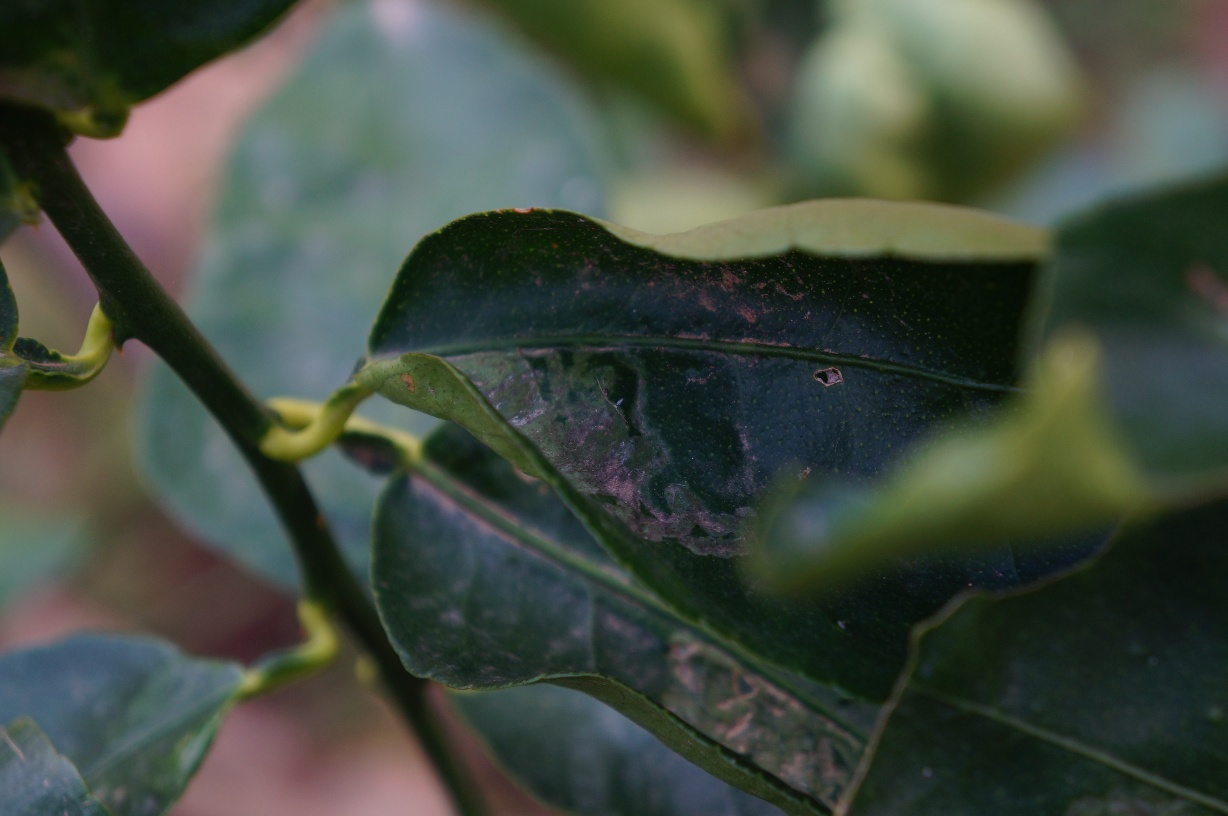damage: (472, 346, 749, 571)
